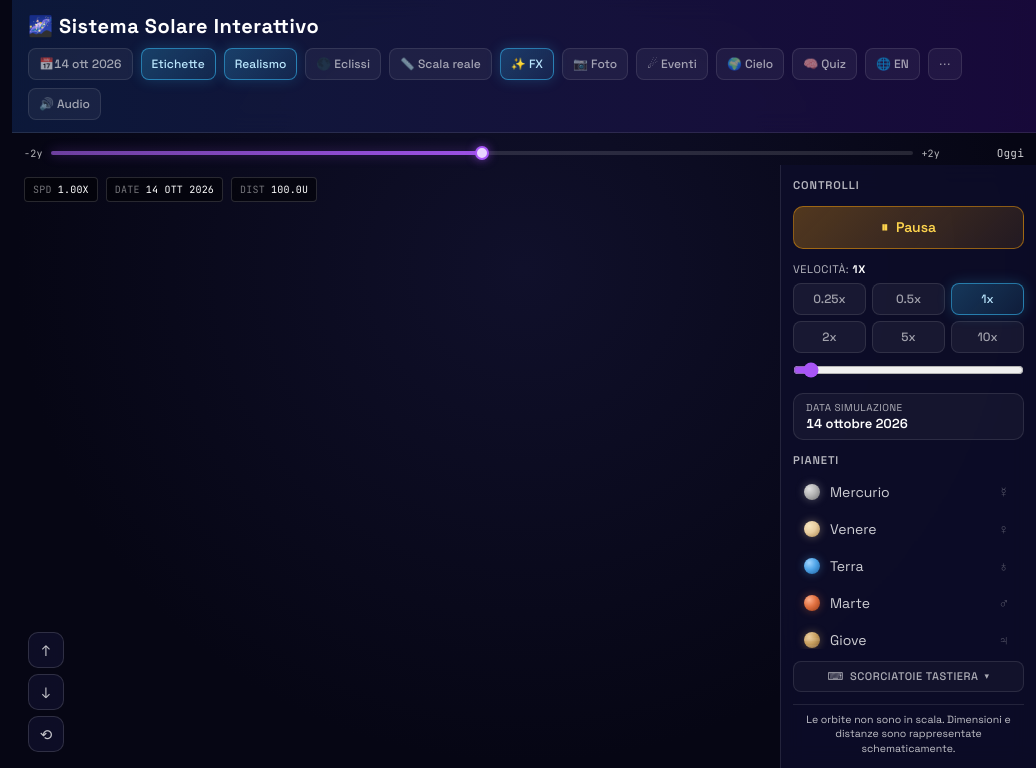
Test: Scorciatoia Spazio ≡ pulsante Play/Pausa › Spazio mette in pausa esattamente come il click sul pulsante
Percorso A: scorciatoia da tastiera
Press Space
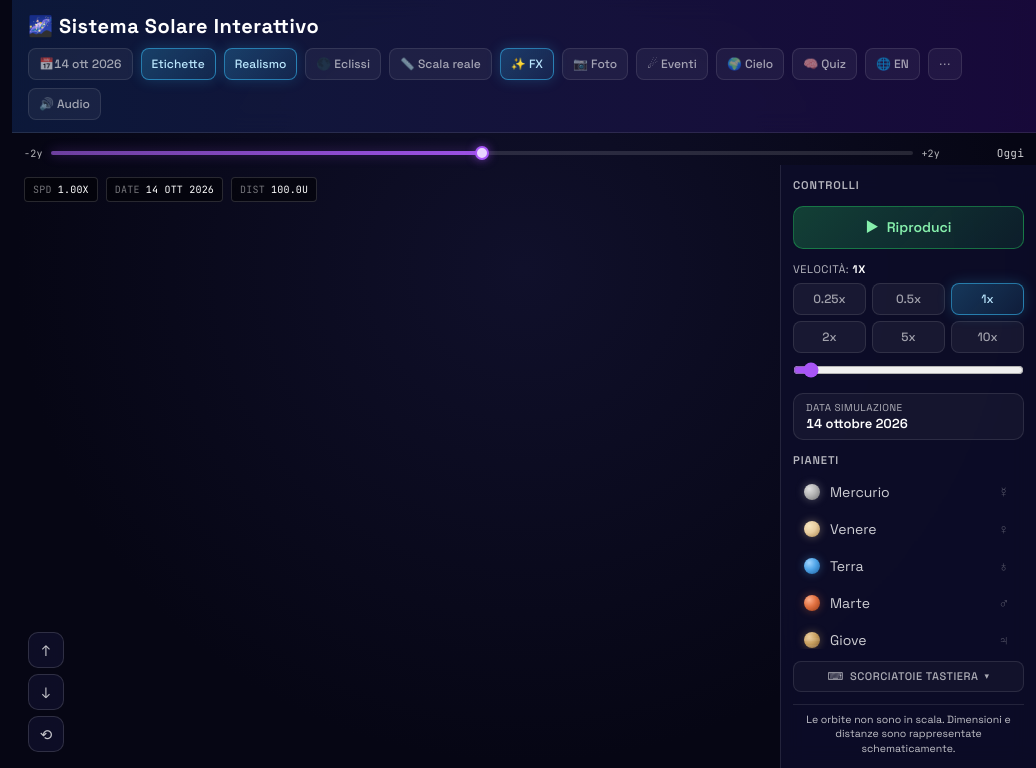
Expected: the button "▶ Riproduci" is shown
Percorso B: click sul pulsante → deve riportare allo stato iniziale
Click the button "▶ Riproduci".
click(908, 227)  # box [793,206,1024,249]
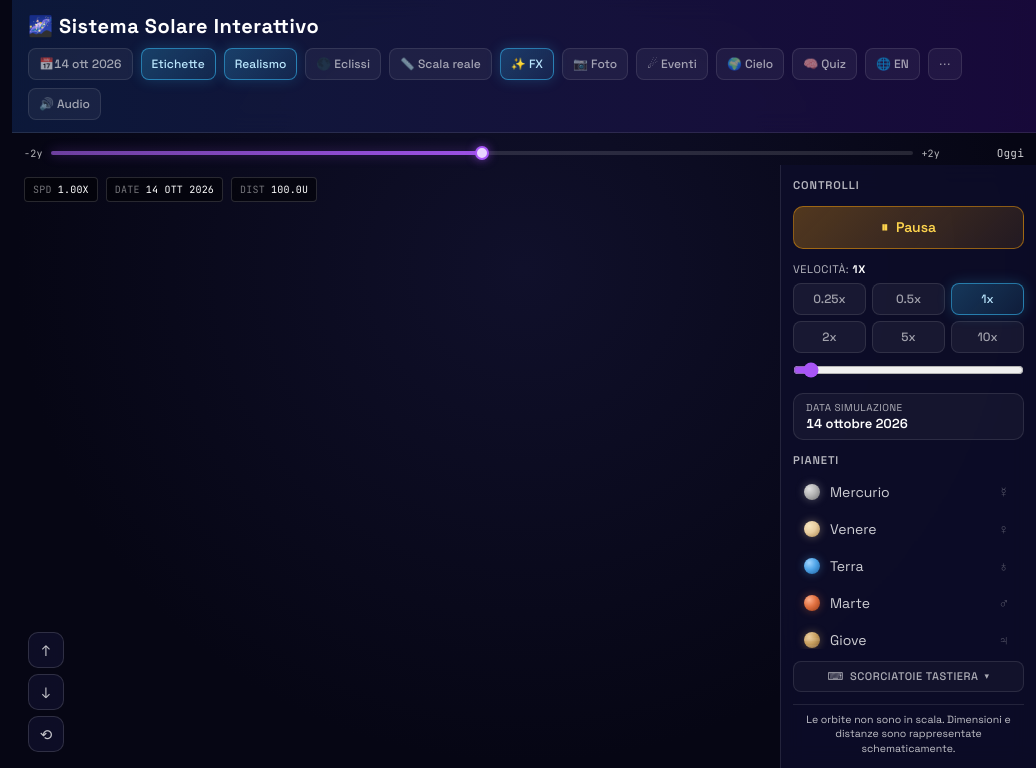
Expected: the button "⏸ Pausa" is shown
Click the button "⏸ Pausa".
click(908, 227)  # box [793,206,1024,249]
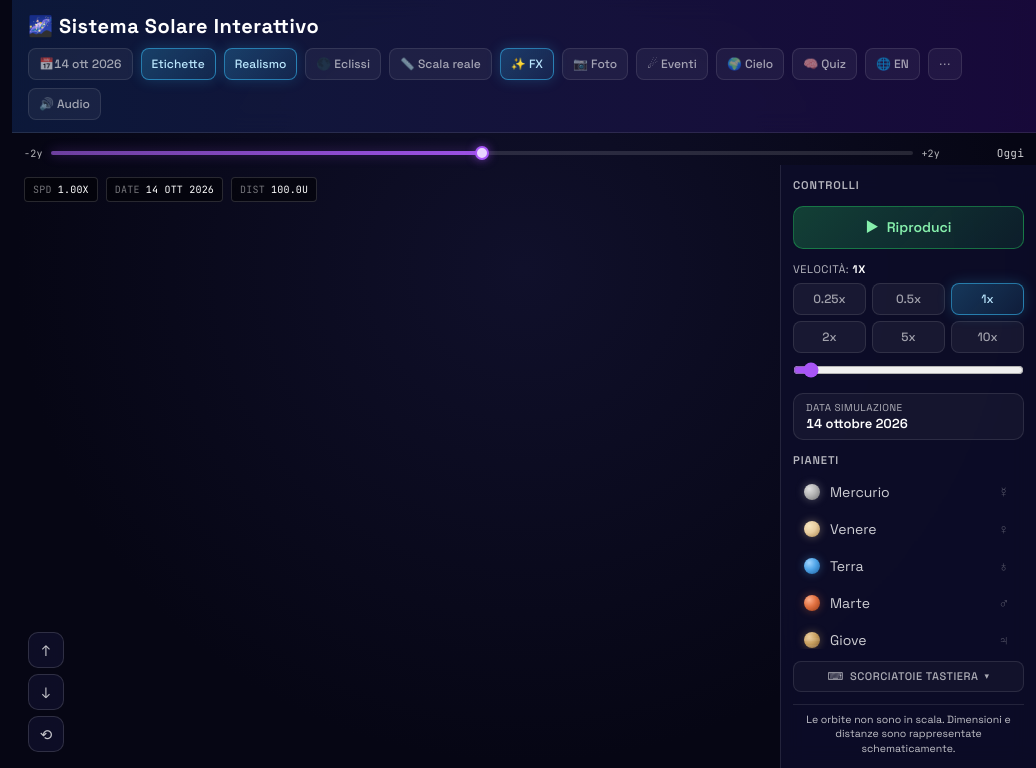
Press Space
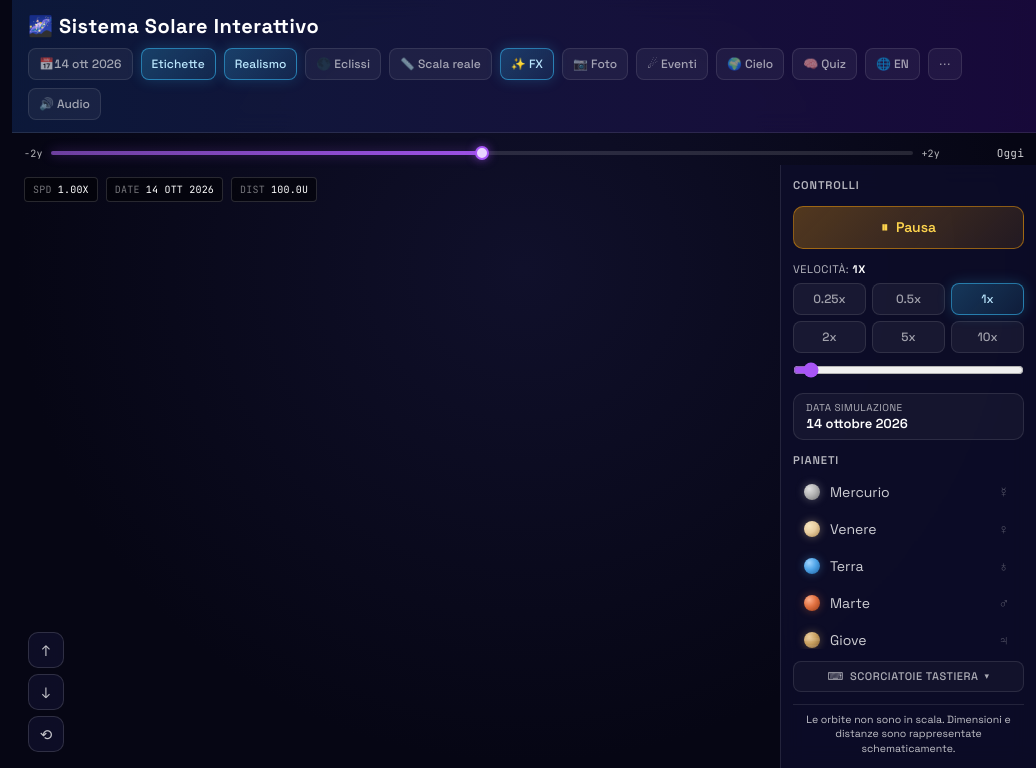
Expected: the button "⏸ Pausa" is shown, [793,206,1024,249]
